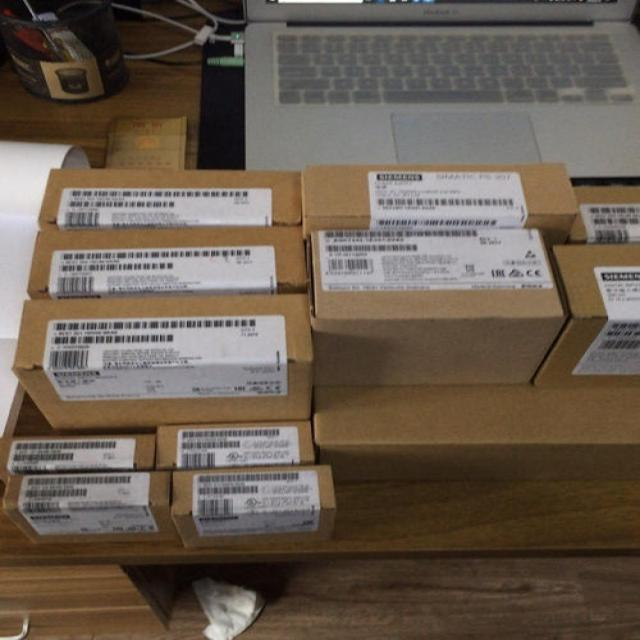box: (310, 228, 570, 387), (12, 296, 312, 430), (314, 385, 640, 482), (303, 163, 580, 246), (26, 227, 310, 299), (531, 242, 640, 386), (37, 169, 302, 227), (169, 465, 337, 549), (3, 470, 178, 544), (155, 421, 315, 468), (3, 433, 155, 473), (104, 116, 187, 169), (567, 185, 640, 244)
